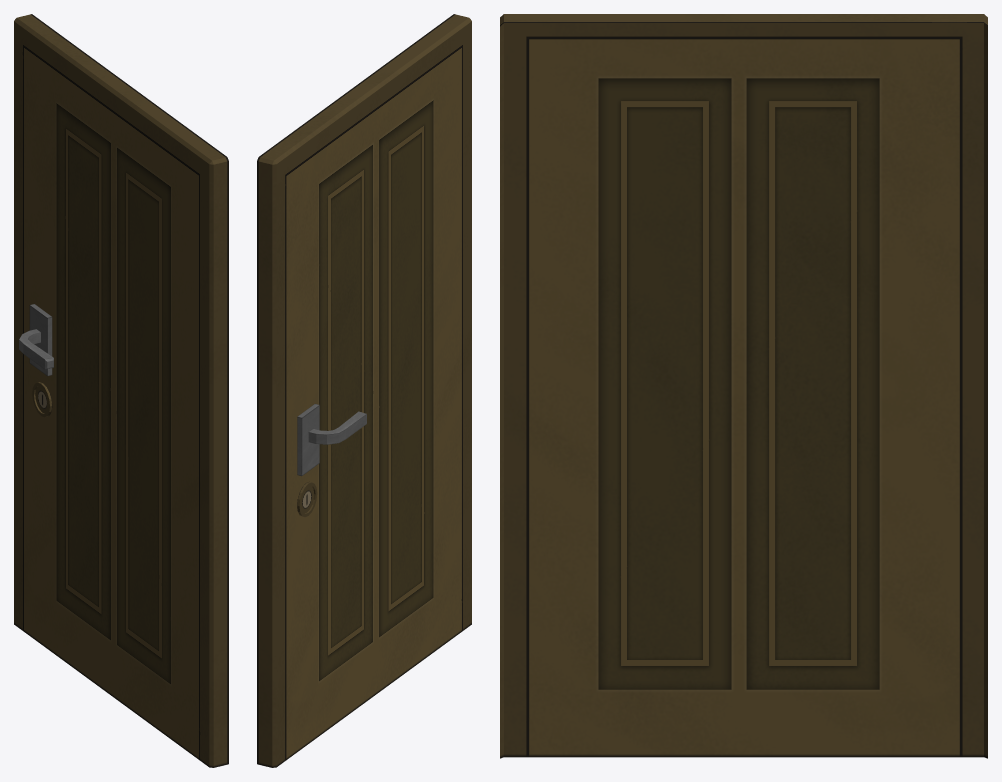
File: door1.fbx
3 views of the same model, side by side, from view 1: azimuth 30°, elevation 25°; view 2: azimuth 150°, elevation 25°; view 3: azimuth 270°, elevation 25° (orthographic). The views are drawn at different scales.
Visible parts, largest first — view 1: polySurface498; view 2: polySurface498; view 3: polySurface498.
Part boxes in pixels (bbox=[...]): polySurface498: bbox=[14, 14, 228, 767]; polySurface498: bbox=[257, 14, 471, 767]; polySurface498: bbox=[500, 14, 987, 758].
Size of the model in its own units: 0.1821 by 2.2 by 1.31.
